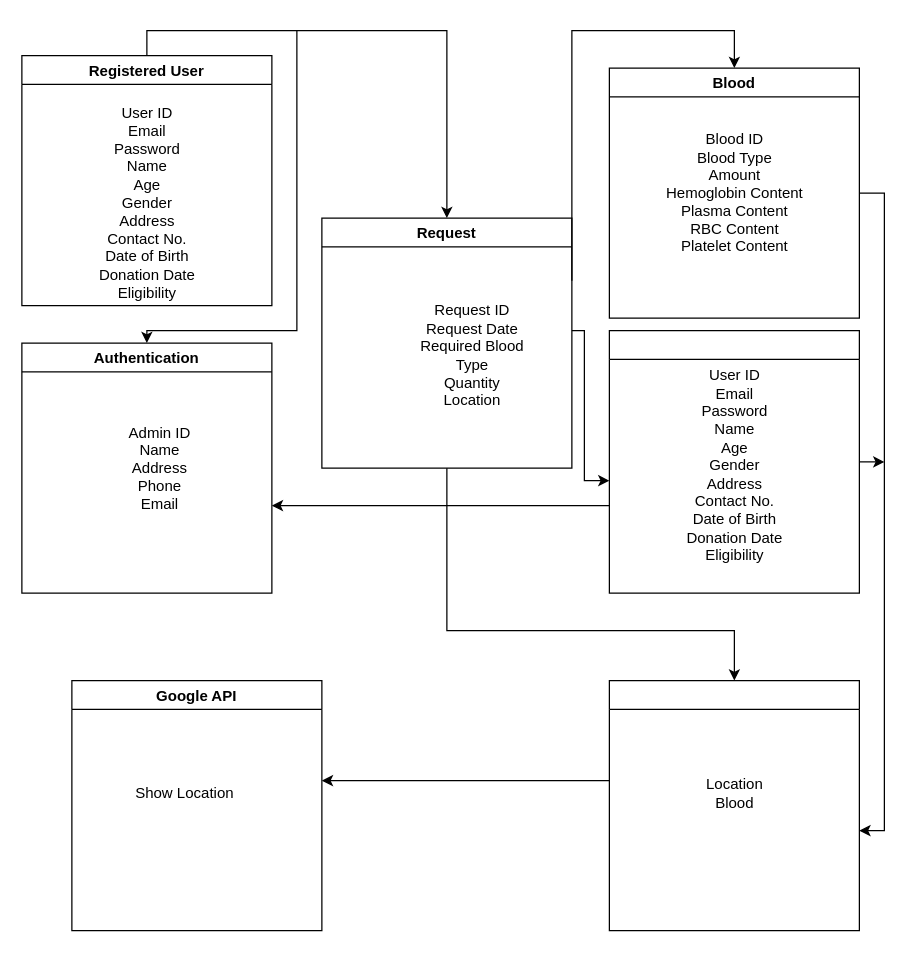
Image size: 916x953. Some labels were removed from this diagram. The shapes that lost their labels are listed below. From the top down, each one's box as (x1, y1, x2, y2) in pixels, then its label:
(608, 329, 859, 593): Doner
(608, 679, 859, 931): Data Base
